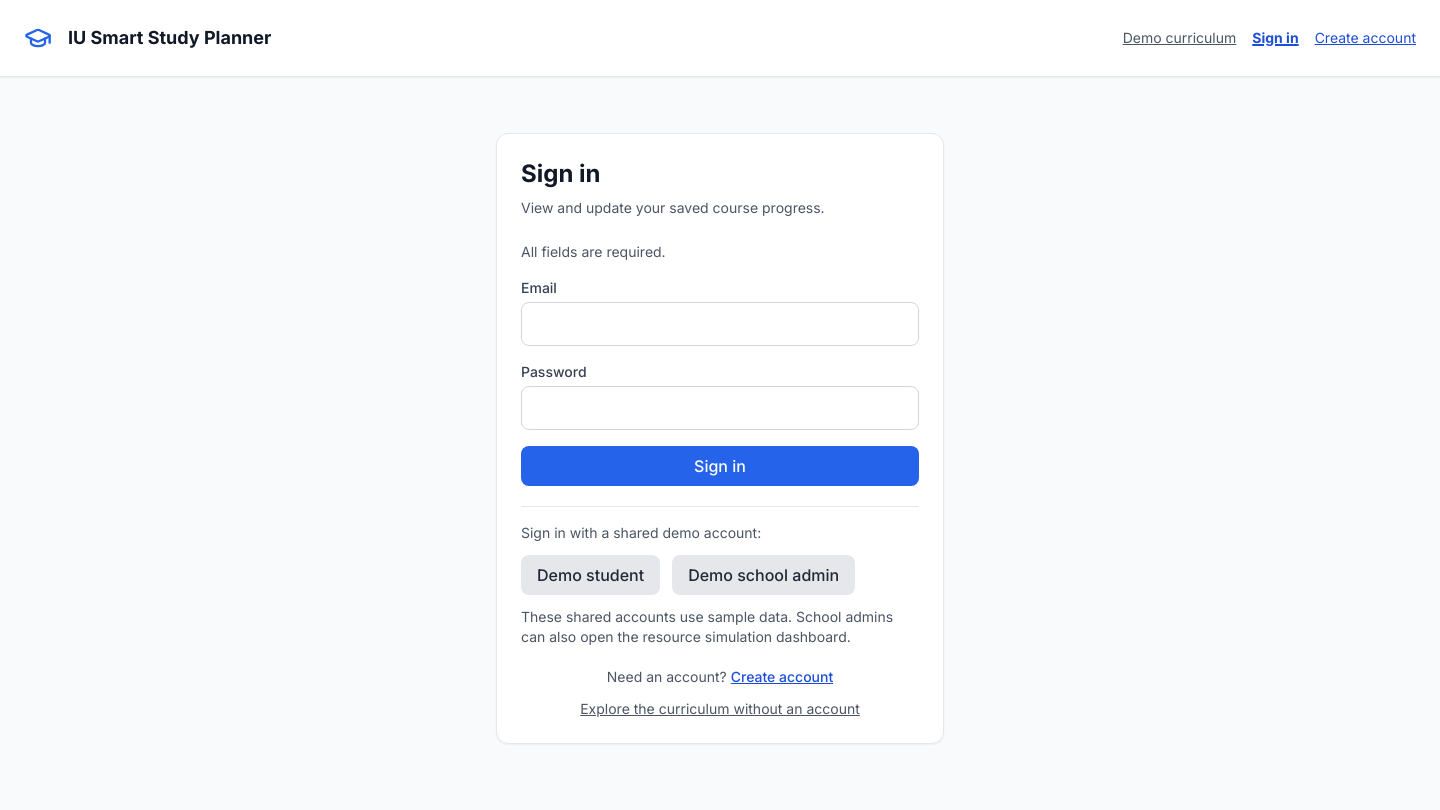
authentication screens and session routing › quickly signs in to the STUDENT demo without form credentials
Click the button "Demo student" at (591, 575), box x1=521 y1=555 x2=660 y2=595
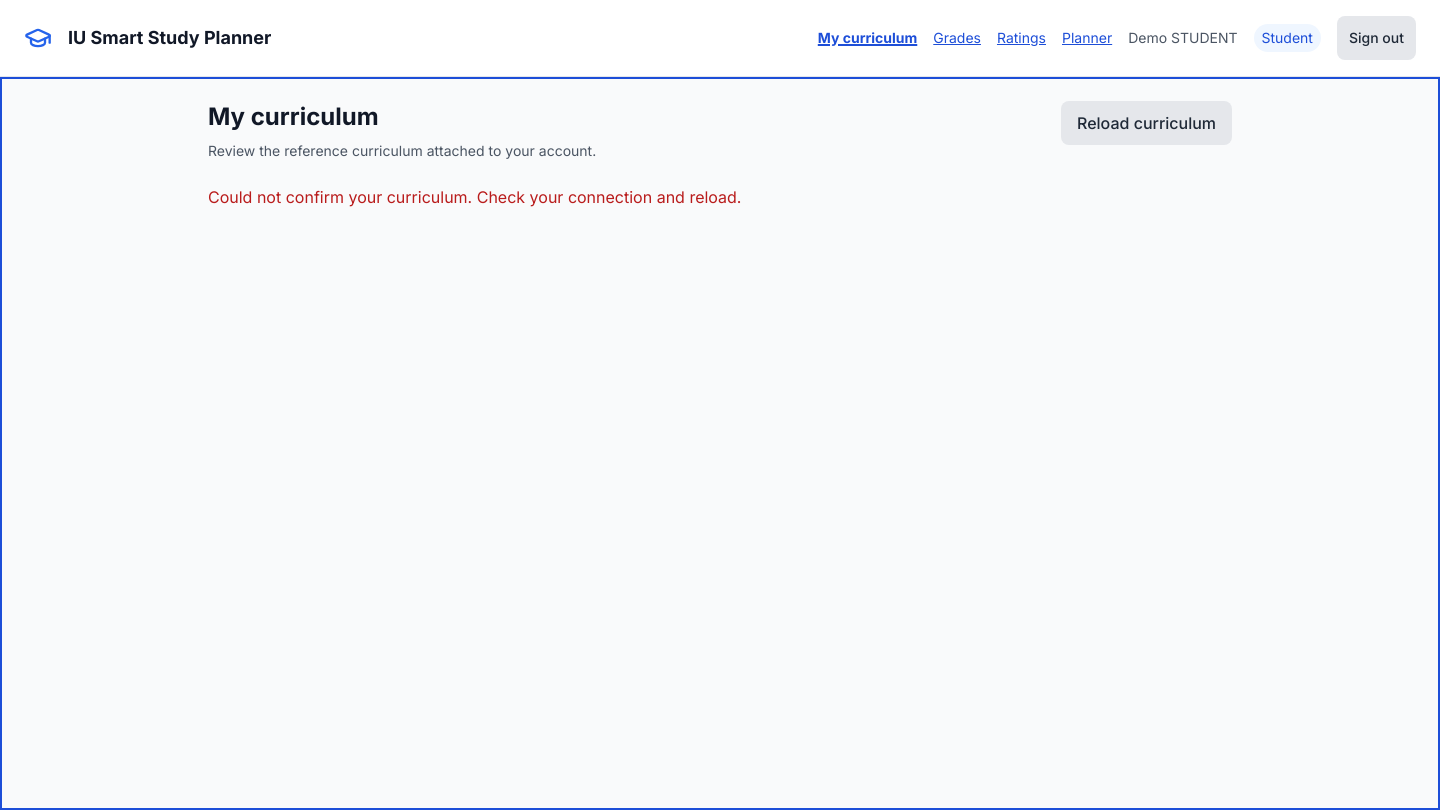
Expected: the text "Student" is shown, x1=1254 y1=24 x2=1321 y2=52
